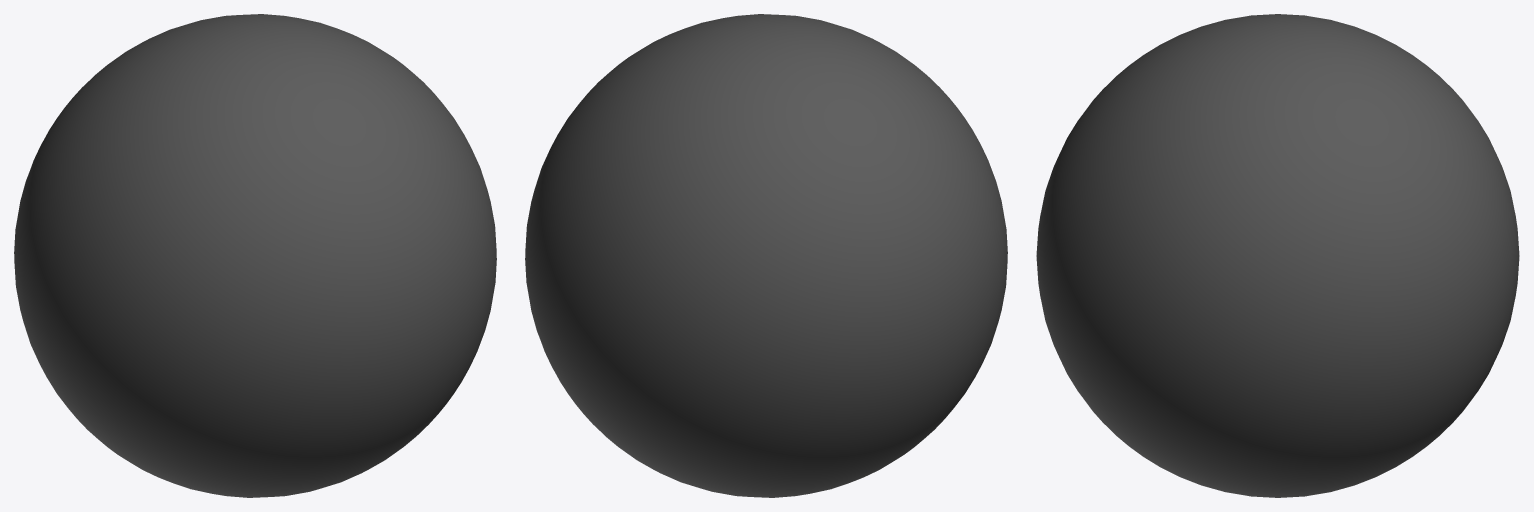
3 renders of one model, left to right at view 1: azimuth 30°, elevation 25°; view 2: azimuth 150°, elevation 25°; view 3: azimuth 270°, elevation 25°, orthographic.
Parts seen in each view (by area): view 1: mesh_id27; view 2: mesh_id27; view 3: mesh_id27.
Boxes of the visible parts, box(x1,y1,x2,y2) form: mesh_id27: box(14, 14, 496, 497); mesh_id27: box(525, 14, 1007, 497); mesh_id27: box(1036, 14, 1519, 497).
Size of the model in its own units: 0.3514 by 0.3524 by 0.3514.
1 material, 1 textured.
